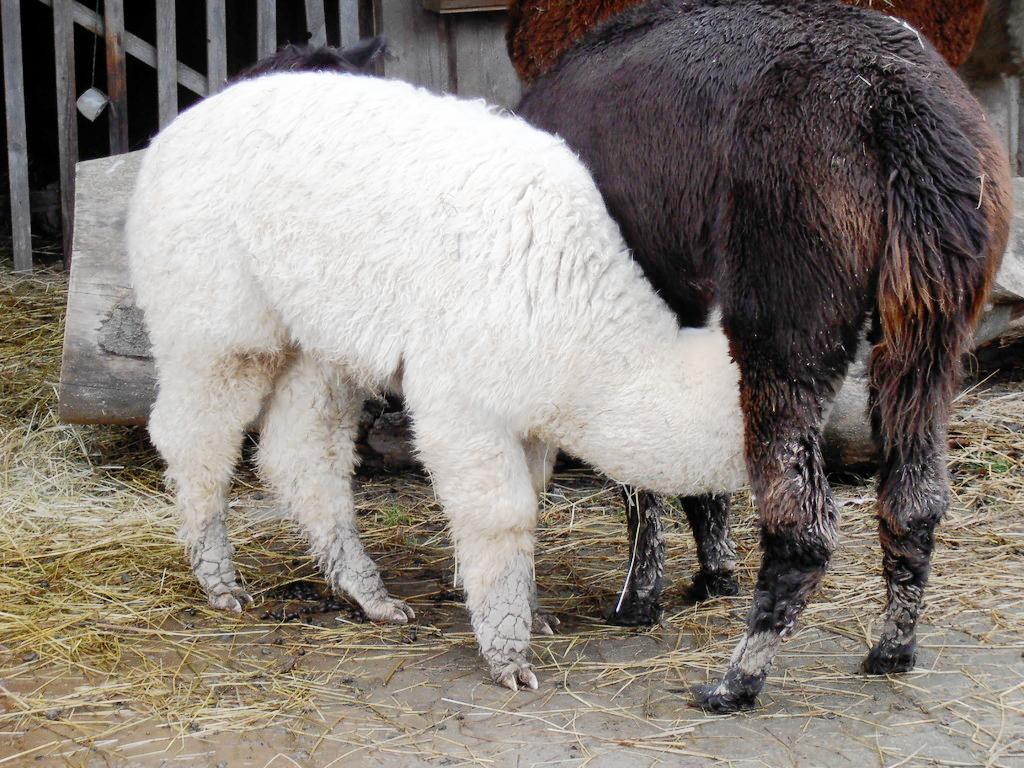Sheep: (510, 0, 1012, 710)
